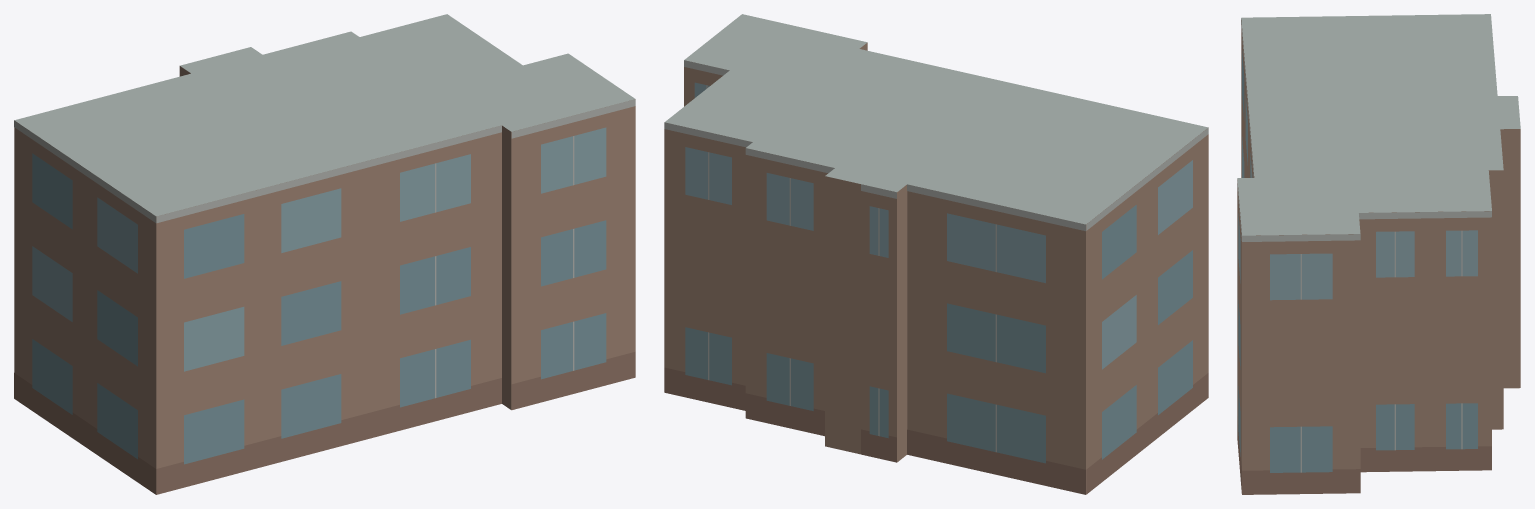
File: survey-upis-32737292.glb
The picture shows the model from 3 angles, left to right: view 1: azimuth 30°, elevation 25°; view 2: azimuth 150°, elevation 25°; view 3: azimuth 270°, elevation 25°; orthographic projection. The views are drawn at different scales.
Visible parts, largest first — view 1: survey-upis-32737292.tmp; view 2: survey-upis-32737292.tmp; view 3: survey-upis-32737292.tmp.
Boxes of the visible parts, bbox=[...] form: survey-upis-32737292.tmp: bbox=[14, 14, 635, 494]; survey-upis-32737292.tmp: bbox=[664, 14, 1208, 494]; survey-upis-32737292.tmp: bbox=[1237, 14, 1520, 494].
Bounding box in the file's own units: 17.98 × 9.8 × 9.71.
